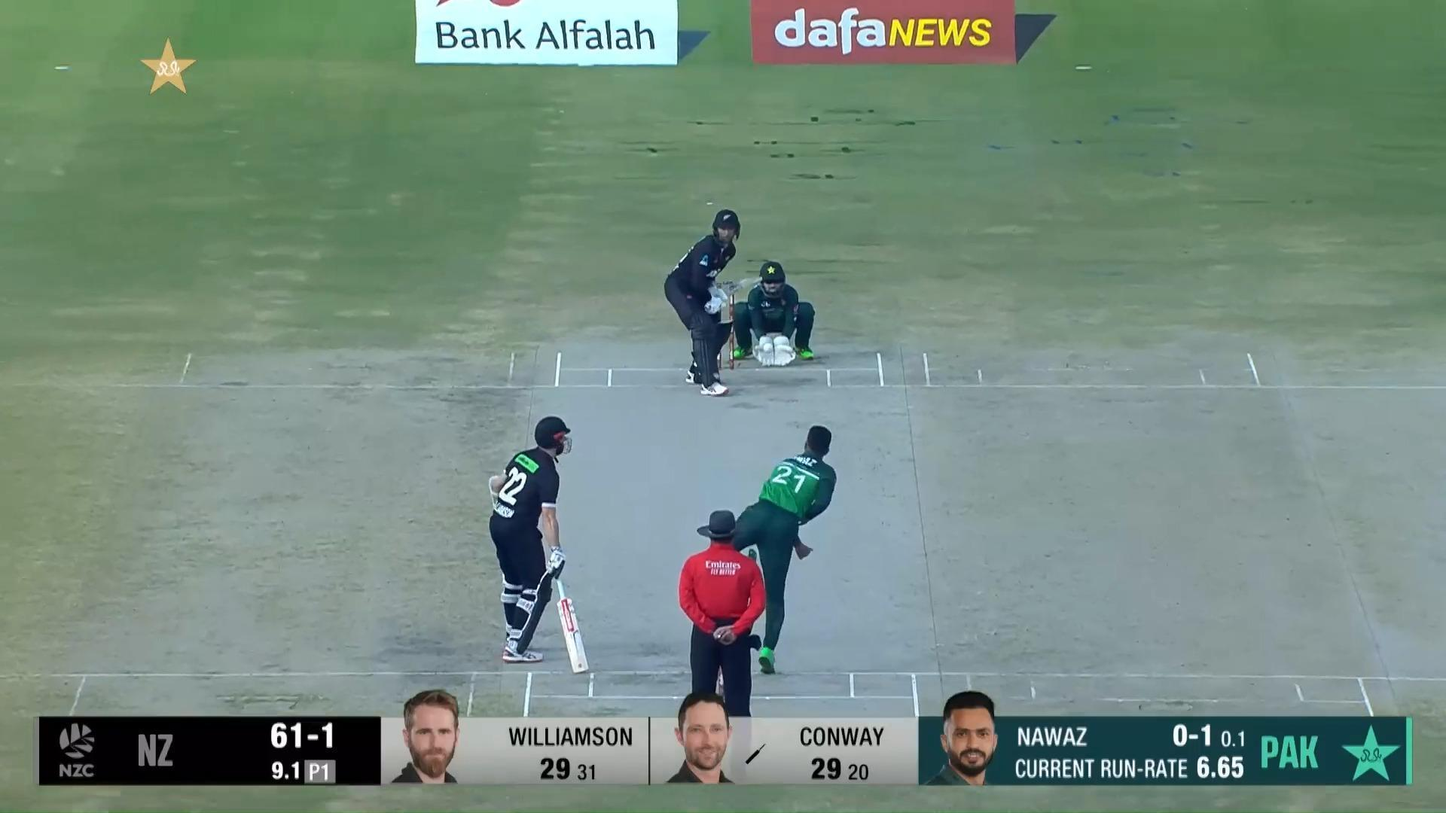BM 1: (663, 210, 766, 398)
BO: (731, 423, 839, 675)
